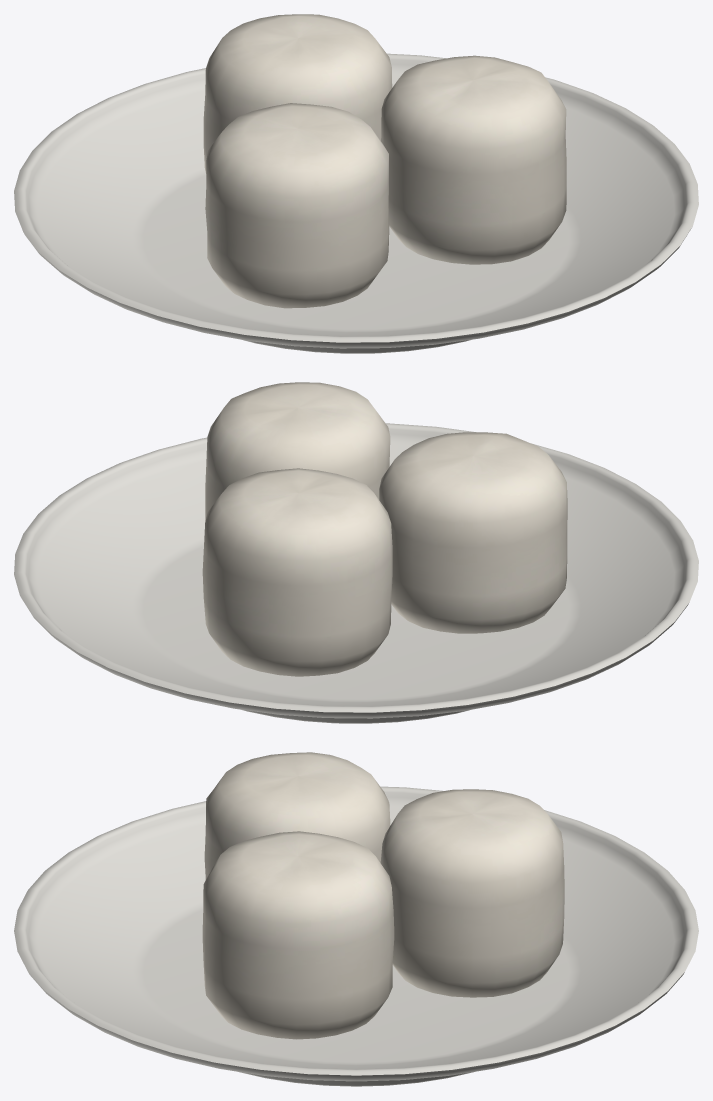
Rendered from marshmallow.glb.
3 renders of one model, top to bottom at view 1: azimuth 30°, elevation 25°; view 2: azimuth 150°, elevation 25°; view 3: azimuth 270°, elevation 25°, orthographic.
Visible parts, largest first — view 1: dish, marsh; view 2: dish, marsh; view 3: dish, marsh.
Boxes of the visible parts, bbox=[...] form: dish: bbox=[14, 53, 698, 353]; marsh: bbox=[203, 14, 566, 308]; dish: bbox=[14, 423, 698, 723]; marsh: bbox=[202, 382, 567, 676]; dish: bbox=[14, 786, 698, 1086]; marsh: bbox=[202, 752, 564, 1039].
Bounding box in the file's own units: 0.1151 × 0.0337 × 0.1151.
Materials: 2 (1 with a texture image).
